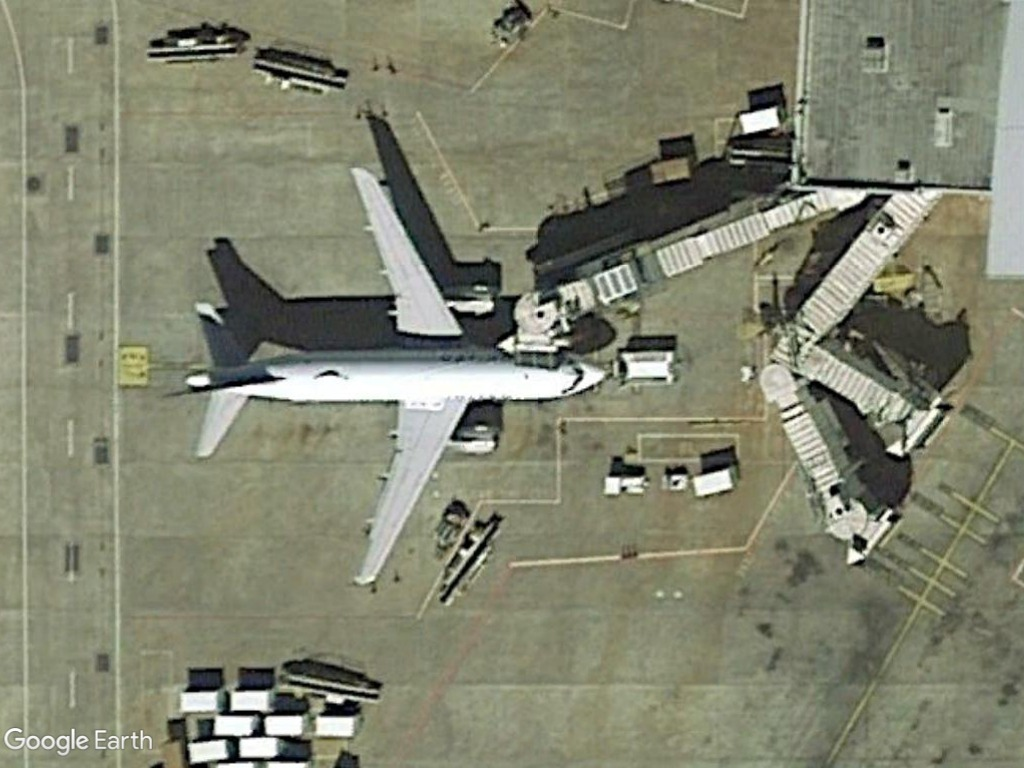airliner: (173, 159, 609, 594)
